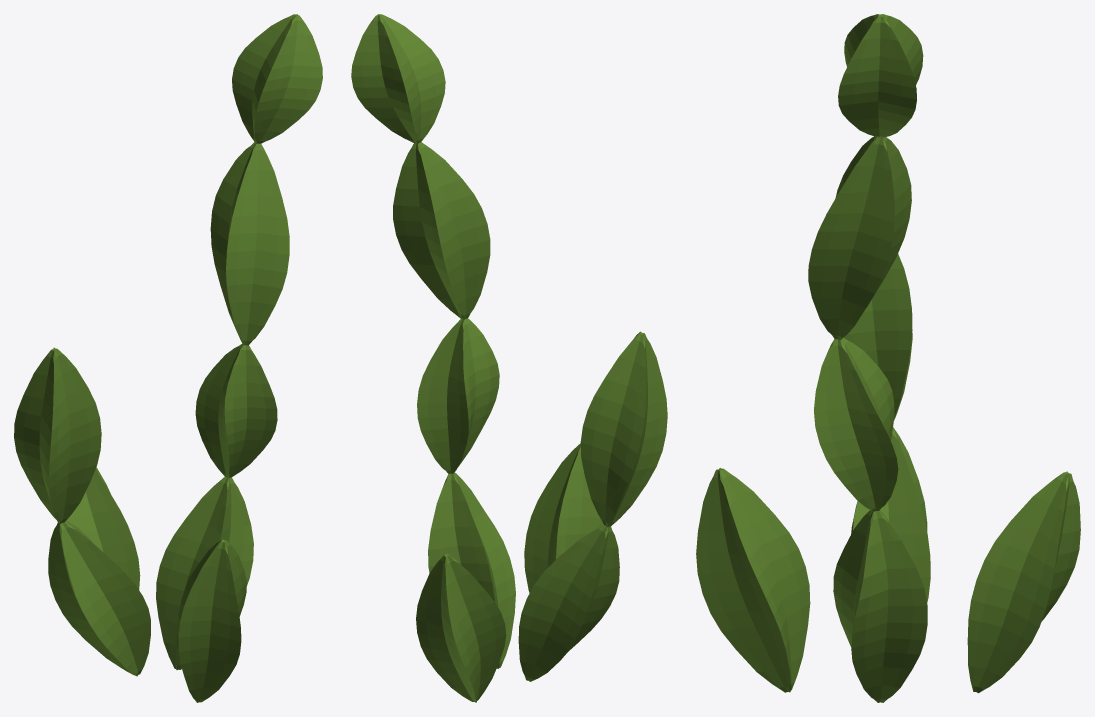
Rendered from Cactus_set_2.fbx.
3 renders of one model, left to right at view 1: azimuth 30°, elevation 25°; view 2: azimuth 150°, elevation 25°; view 3: azimuth 270°, elevation 25°, orthographic. The views are drawn at different scales.
Visible parts, largest first — view 1: Cactus_set_2; view 2: Cactus_set_2; view 3: Cactus_set_2.
Part boxes in pixels (x1=…): Cactus_set_2: x1=14, y1=14, x2=322, y2=702; Cactus_set_2: x1=351, y1=14, x2=667, y2=702; Cactus_set_2: x1=696, y1=14, x2=1080, y2=702.
Size of the model in its own units: 53.89 by 51.94 by 113.
